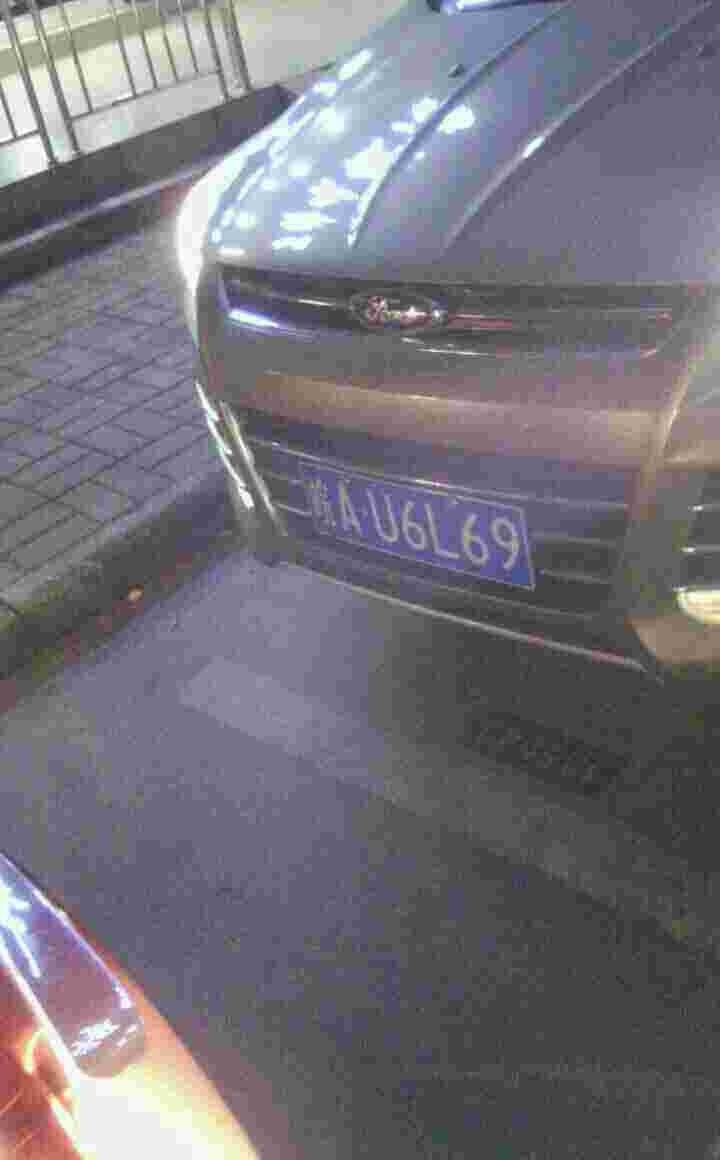license_plate: (293, 476, 535, 589)
